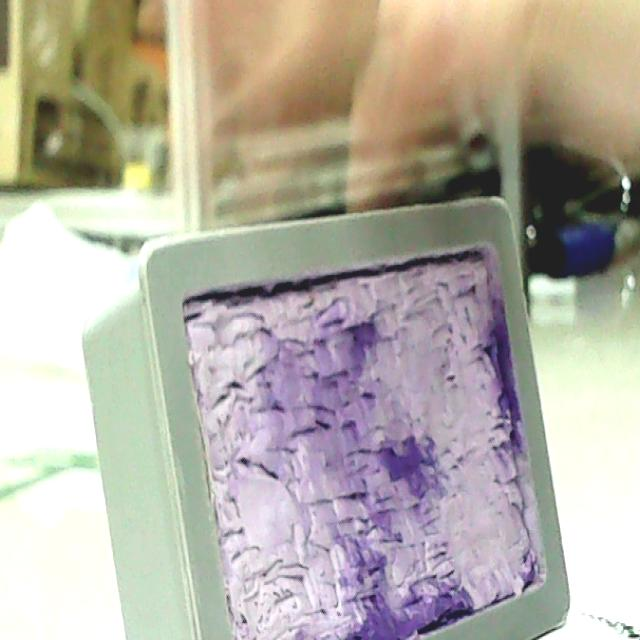block: (80, 199, 572, 640)
